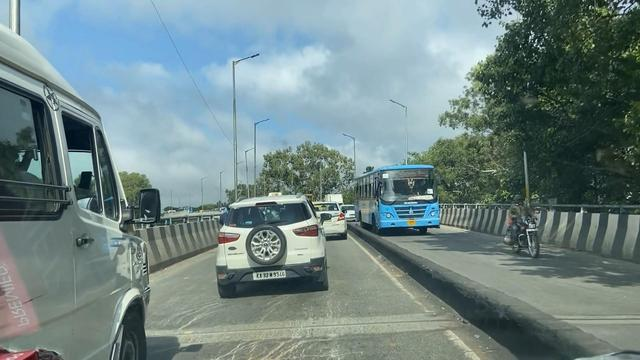LMV: (219, 197, 327, 293)
RoadDamages: (192, 338, 363, 360)
SpeedBump: (153, 312, 446, 349)
